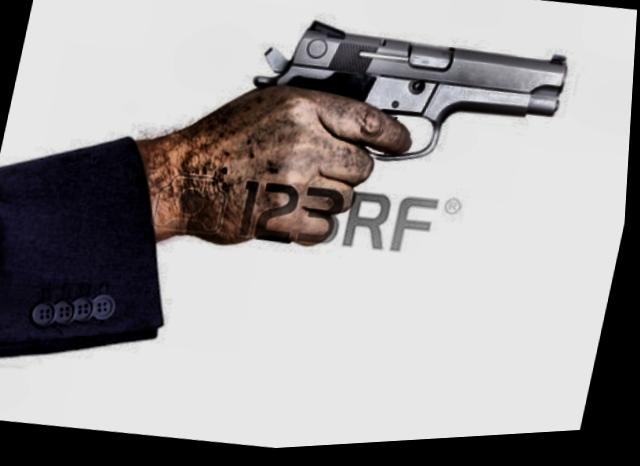pistol: (205, 0, 583, 293)
